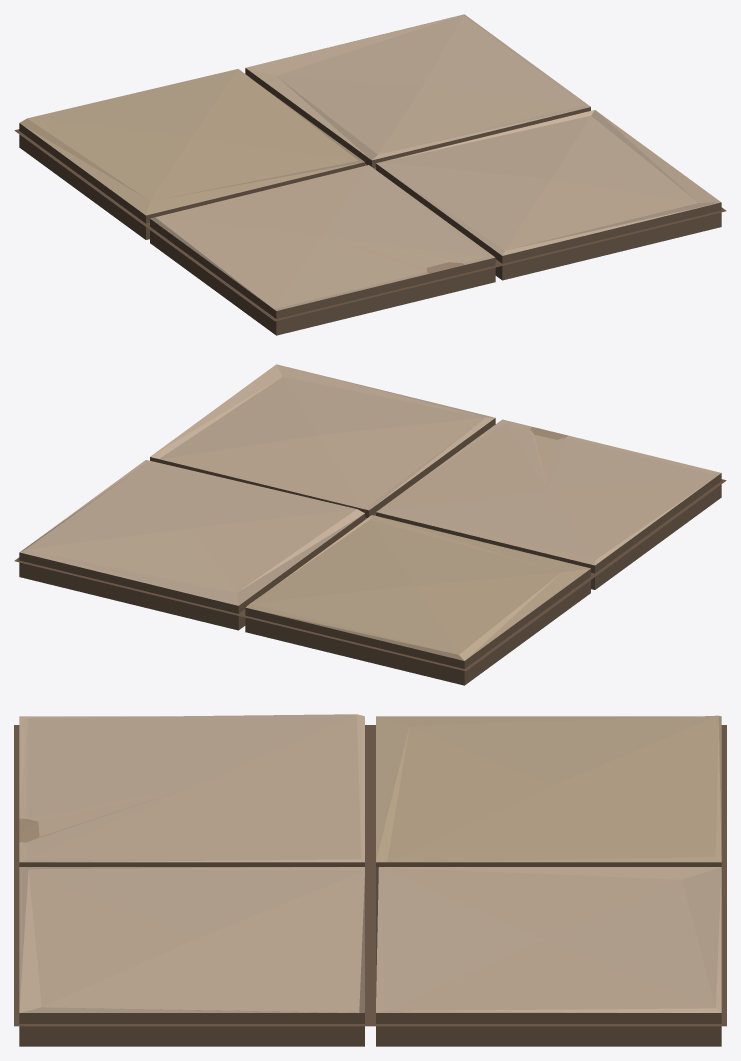
Rendered from SM_Ground_PavingTile_Clean_04.fbx.
The picture shows the model from 3 angles, top to bottom: view 1: azimuth 30°, elevation 25°; view 2: azimuth 150°, elevation 25°; view 3: azimuth 270°, elevation 25°; orthographic projection. The views are drawn at different scales.
Parts seen in each view (by area): view 1: SM_Ground_PavingTile_Clean_04; view 2: SM_Ground_PavingTile_Clean_04; view 3: SM_Ground_PavingTile_Clean_04.
Boxes of the visible parts, bbox=[...] form: SM_Ground_PavingTile_Clean_04: bbox=[14, 14, 726, 335]; SM_Ground_PavingTile_Clean_04: bbox=[14, 364, 726, 685]; SM_Ground_PavingTile_Clean_04: bbox=[14, 714, 726, 1046].
Size of the model in its own units: 1 by 0.0599 by 1.
Materials: 1 (1 with a texture image).
